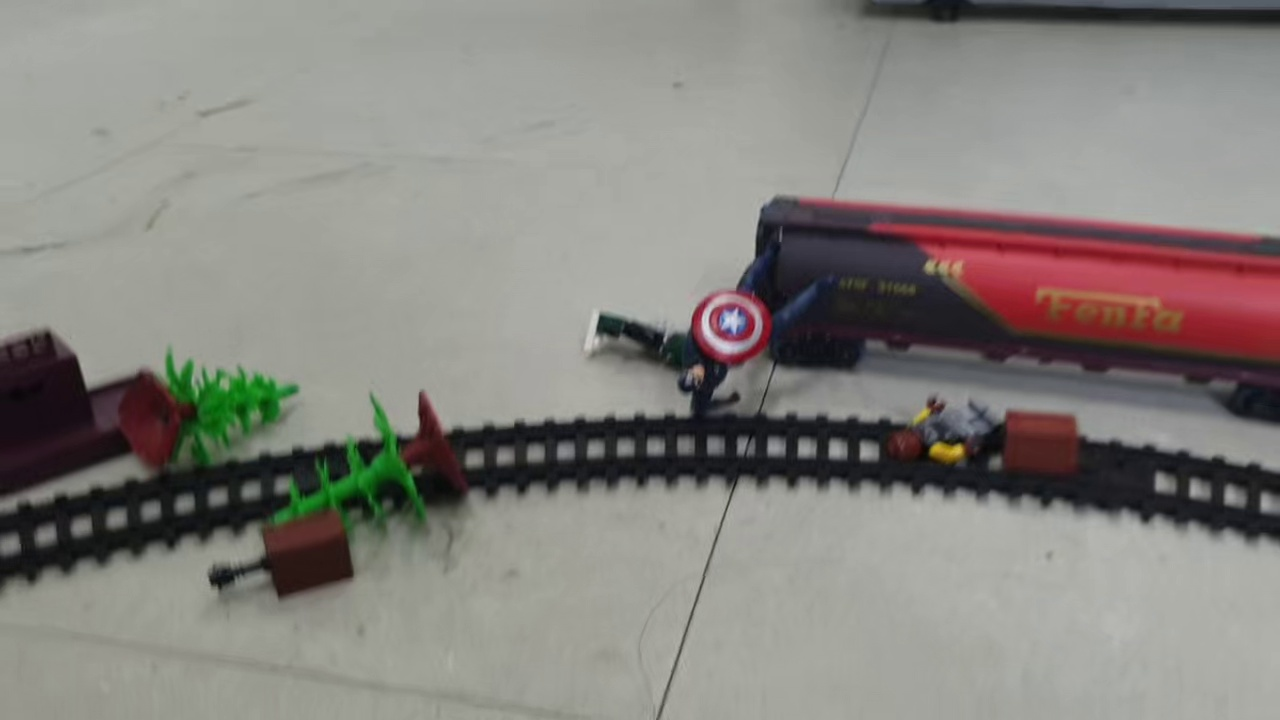box: (208, 512, 359, 607), (1000, 410, 1081, 481)
people: (677, 235, 833, 416), (882, 392, 1008, 477), (582, 310, 719, 371)
tree: (252, 389, 467, 537), (117, 345, 304, 471)
